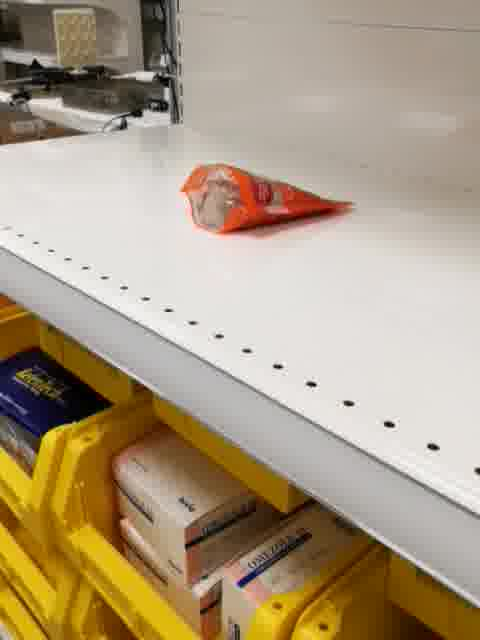whitechia: (179, 161, 355, 236)
